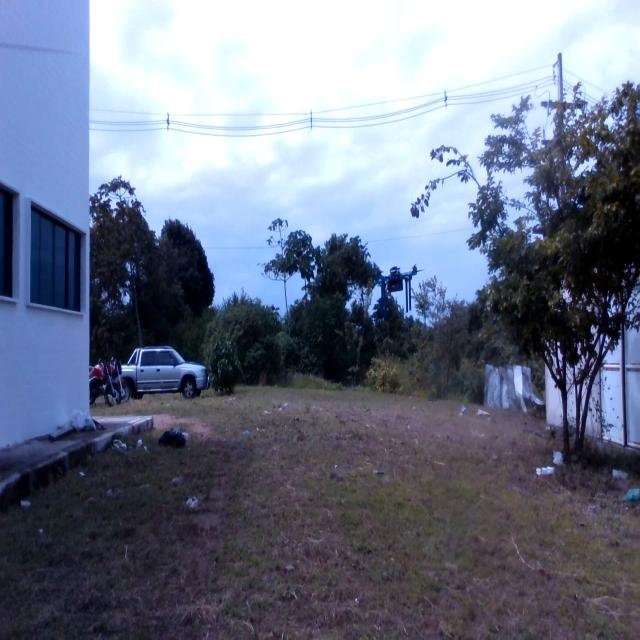-uav-: (366, 258, 426, 317)
